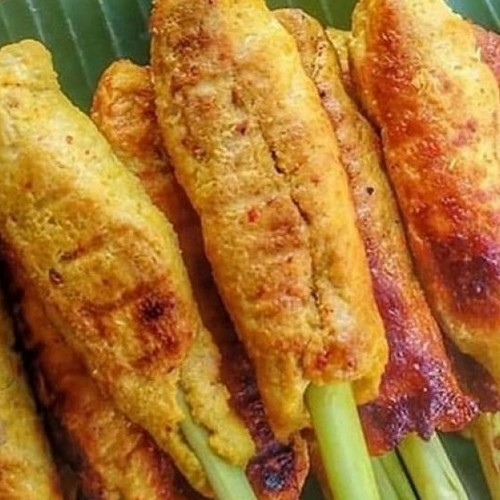sate lilit: (21, 28, 497, 498)
